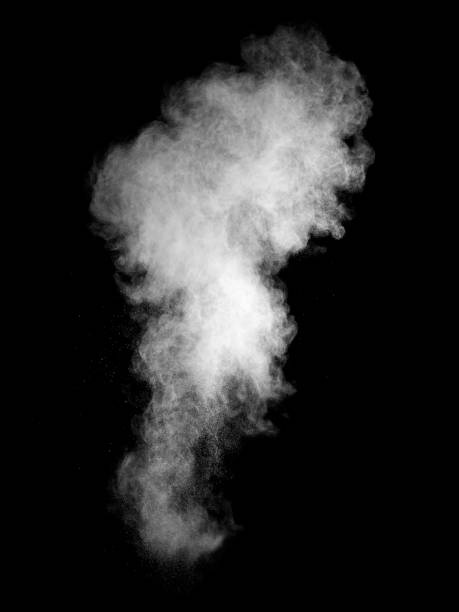smoke: (87, 24, 377, 574)
